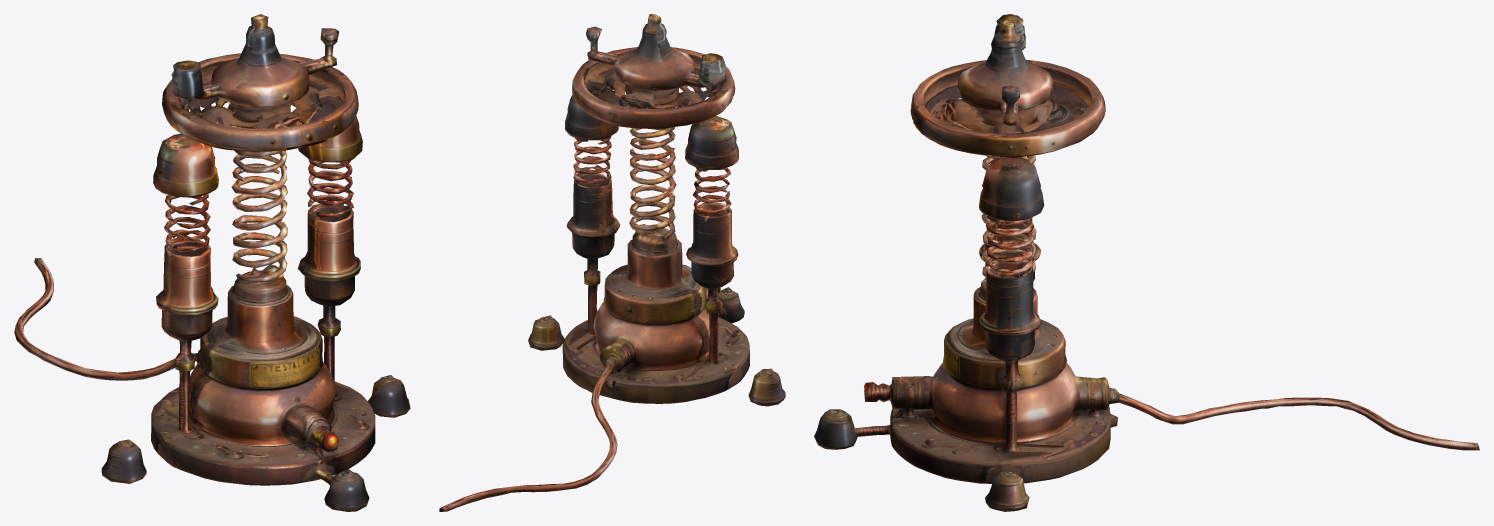
Rendered from Bobina_de_Tesla_vinta_1203174914_texture.glb.
The picture shows the model from 3 angles, left to right: view 1: azimuth 30°, elevation 25°; view 2: azimuth 150°, elevation 25°; view 3: azimuth 270°, elevation 25°; orthographic projection. The views are drawn at different scales.
Bounding box in the file's own units: 1.05 × 1.42 × 2.02.
Materials: 1 (1 with a texture image).
